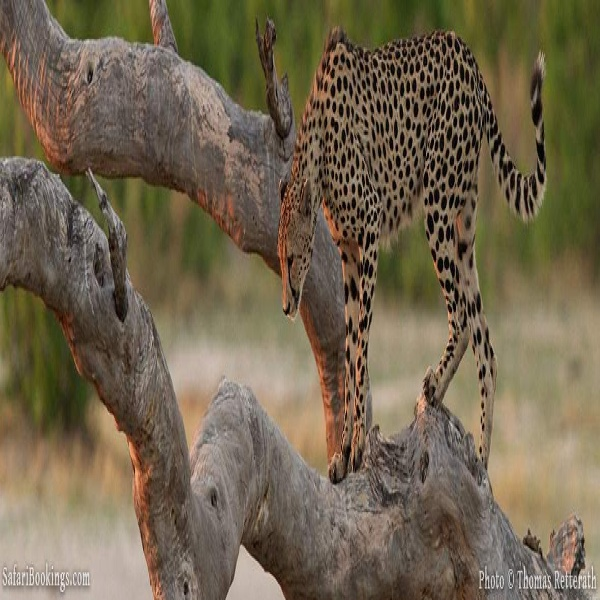Cheetah: (273, 26, 559, 491)
